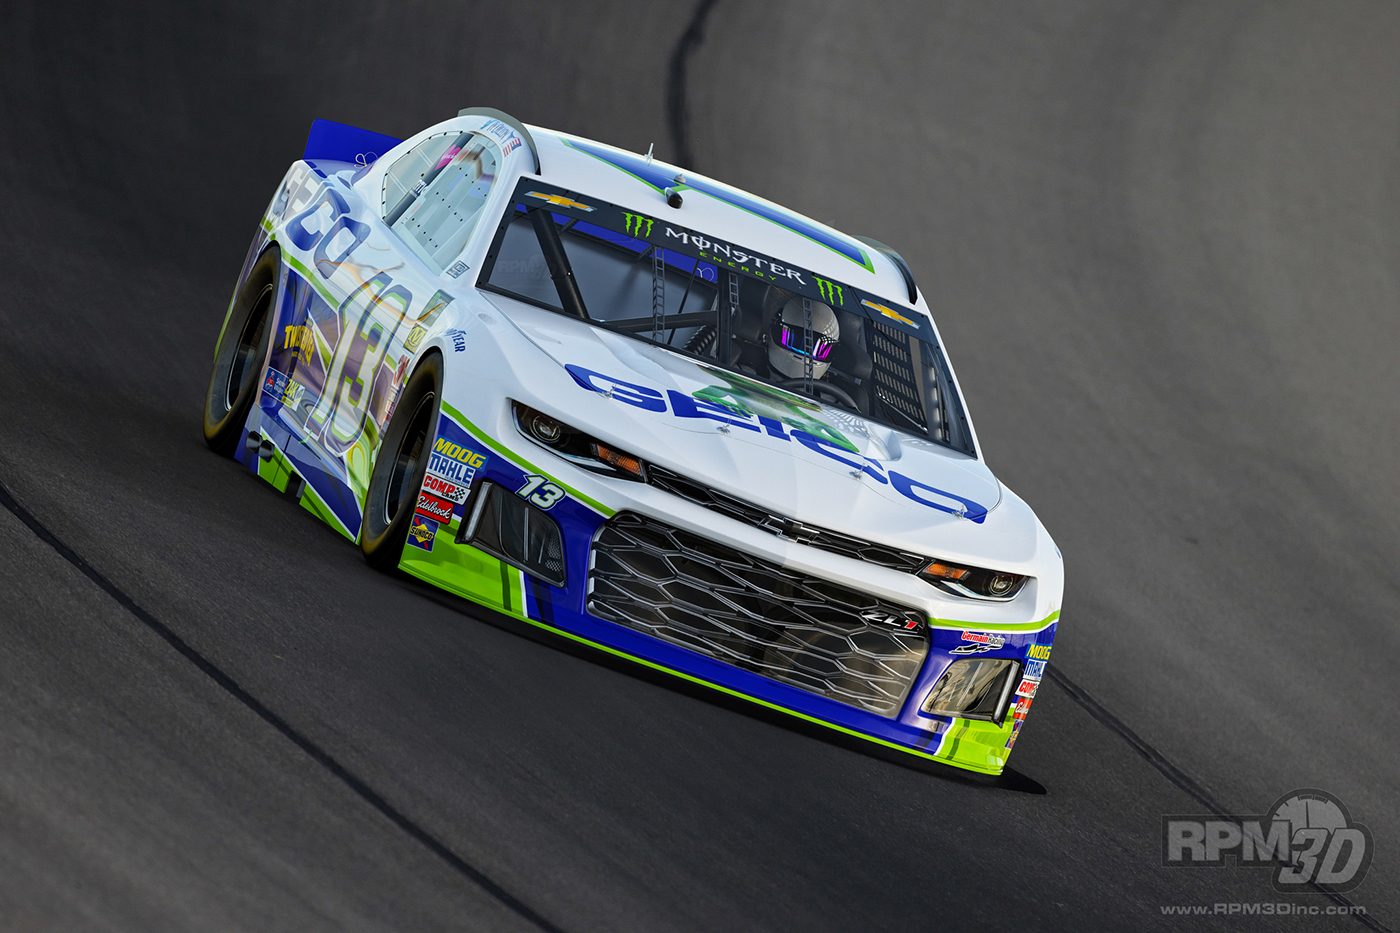Geico: (557, 338, 986, 527)
